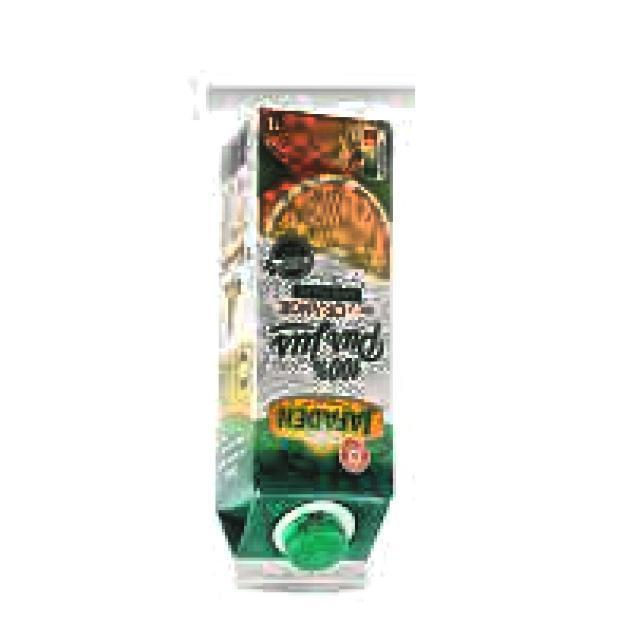cardboard: (212, 92, 412, 599)
